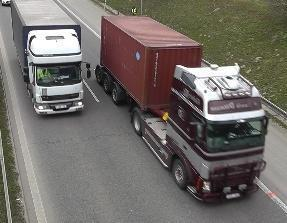truck: (98, 15, 268, 201), (12, 1, 92, 116)
